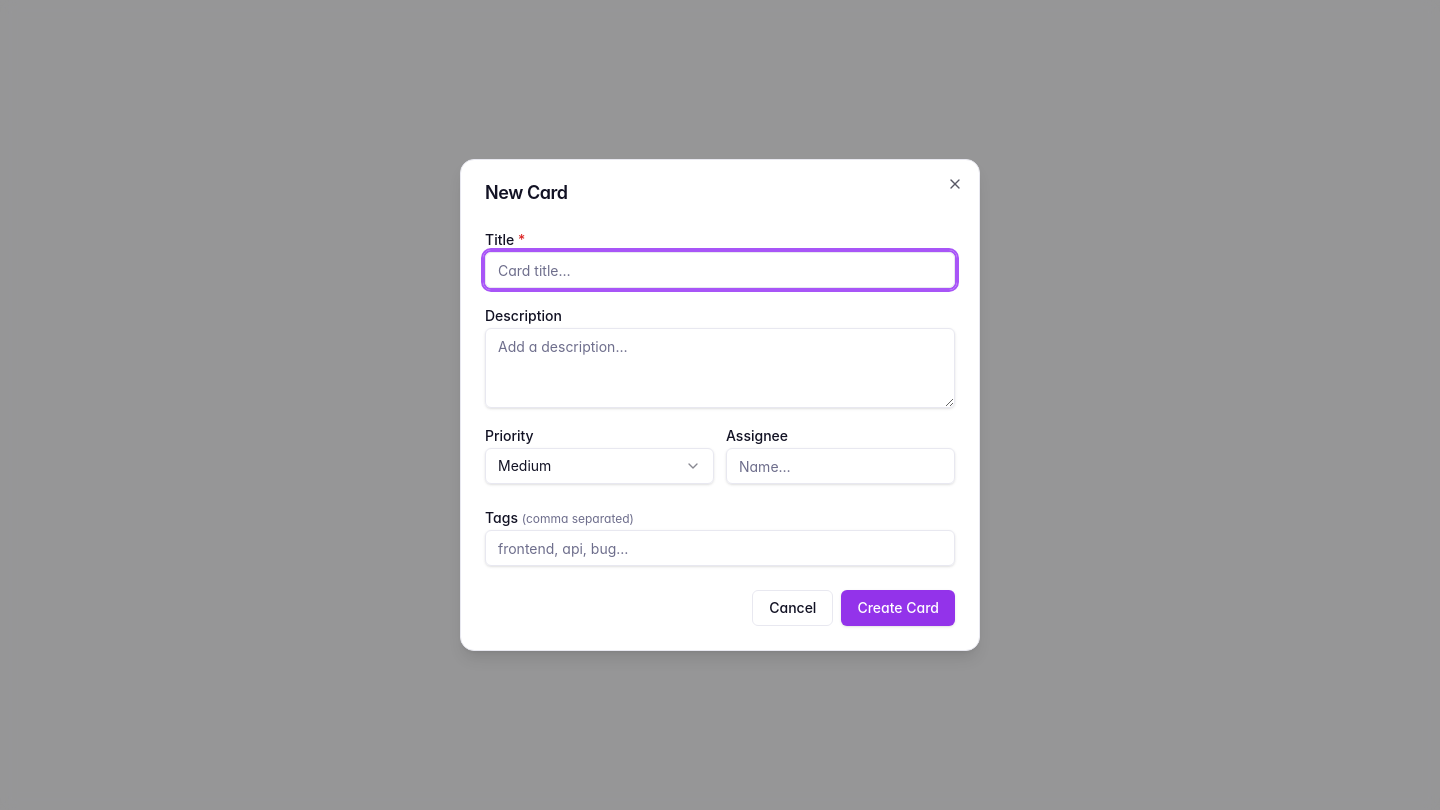
Test: CardDialog — create mode › shows validation error when title is empty
Click the button "Create Card": coordinates (898, 608) [841,590,955,626]
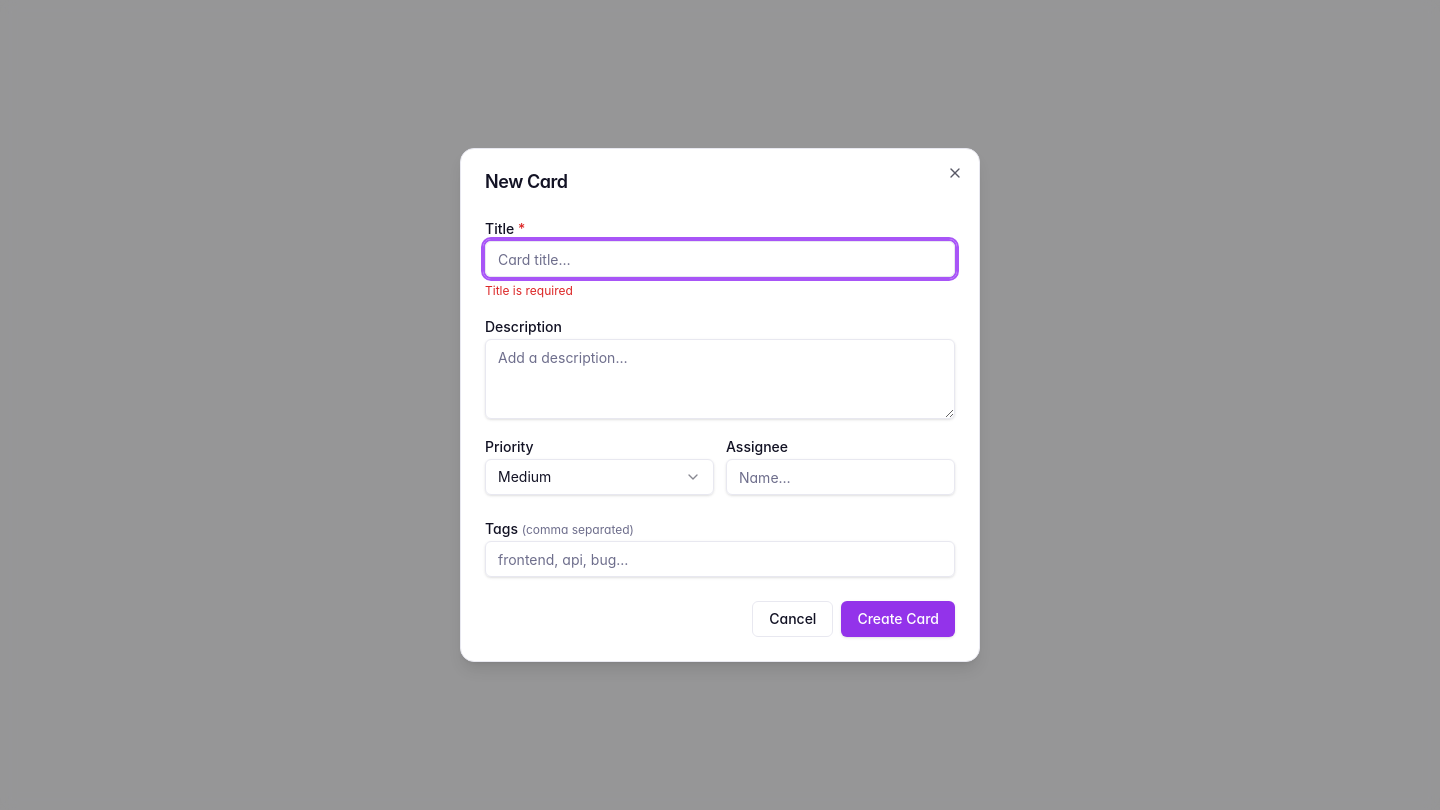
Now the text "Title is required" is shown, box [485,283,573,298]
